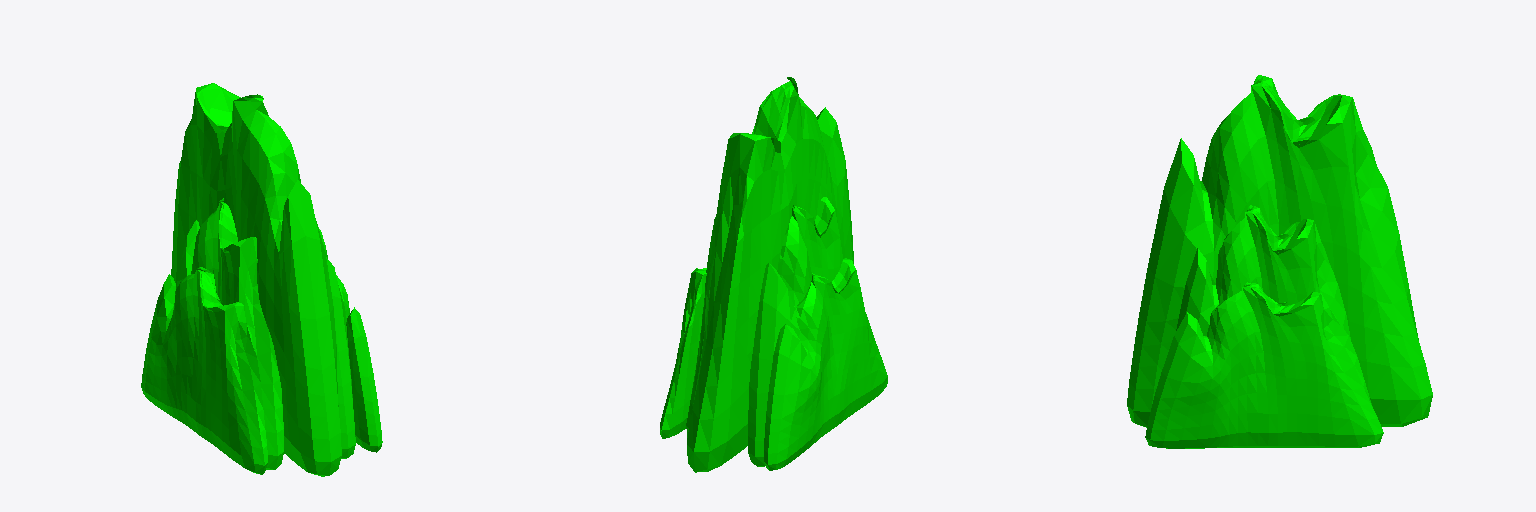
File: Flamme-.obj
3 renders of one model, left to right at view 1: azimuth 30°, elevation 25°; view 2: azimuth 150°, elevation 25°; view 3: azimuth 270°, elevation 25°, orthographic.
Visible parts, largest first — view 1: Cube; view 2: Cube; view 3: Cube.
Boxes of the visible parts, x1=… form: Cube: x1=141, y1=83, x2=382, y2=476; Cube: x1=660, y1=77, x2=887, y2=472; Cube: x1=1127, y1=75, x2=1432, y2=448.
Bounding box in the file's own units: 0.6727 × 1.56 × 1.25.